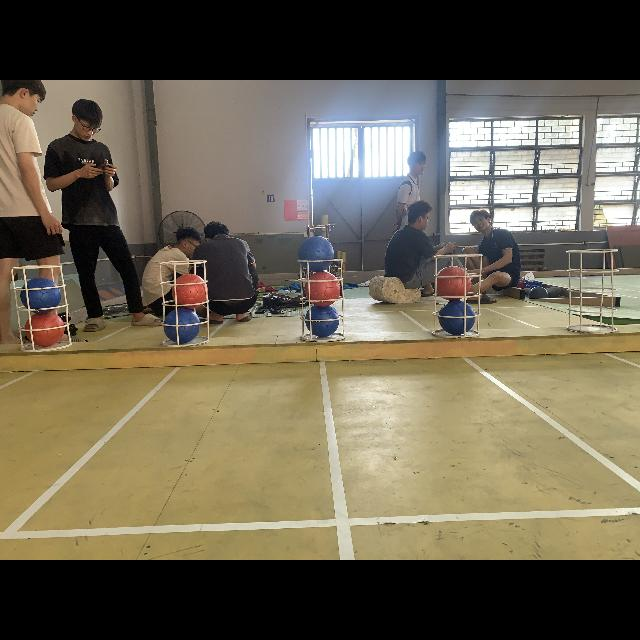B: (20, 278, 61, 314), (298, 236, 334, 272), (438, 299, 474, 335), (304, 304, 340, 338), (163, 310, 201, 342)
R: (26, 313, 64, 347), (304, 272, 342, 306), (172, 274, 208, 308), (436, 266, 470, 300)
